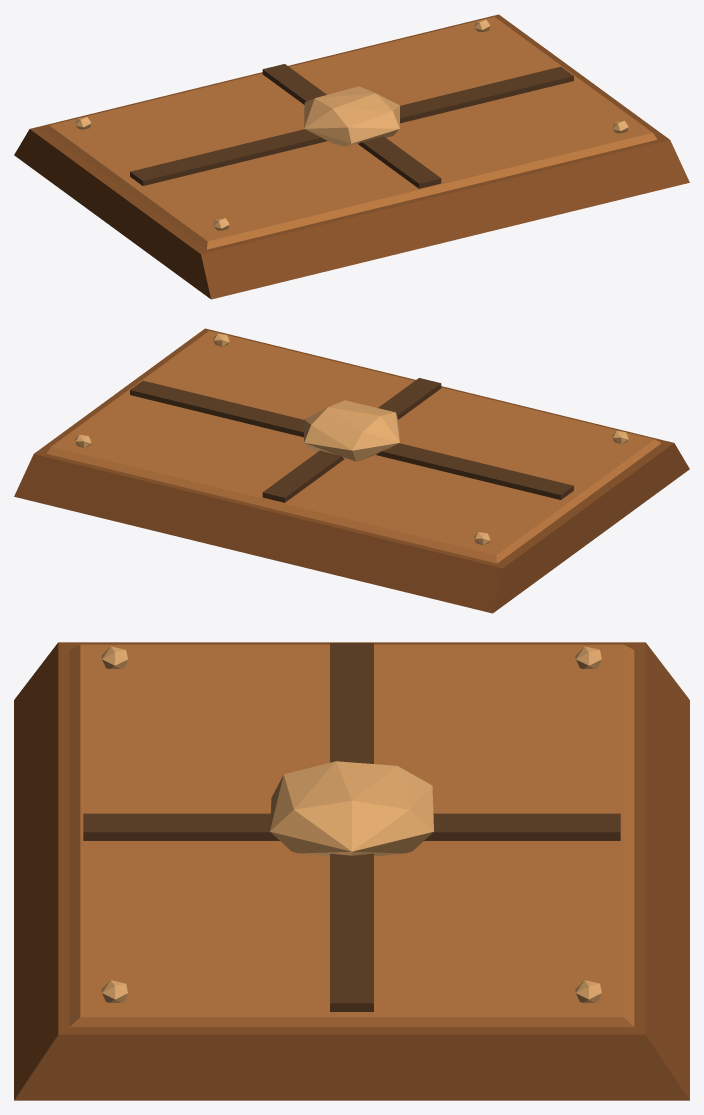
The model's file is drop_bronze_squareshield.glb.
3 renders of one model, top to bottom at view 1: azimuth 30°, elevation 25°; view 2: azimuth 150°, elevation 25°; view 3: azimuth 270°, elevation 25°, orthographic. The views are drawn at different scales.
Parts seen in each view (by area): view 1: drop_bronze_squareshield; view 2: drop_bronze_squareshield; view 3: drop_bronze_squareshield.
Part boxes in pixels (bbox=[...]): drop_bronze_squareshield: bbox=[14, 14, 689, 299]; drop_bronze_squareshield: bbox=[14, 328, 689, 613]; drop_bronze_squareshield: bbox=[14, 642, 689, 1100].
Size of the model in its own units: 0.48 by 0.0845 by 0.3424.
